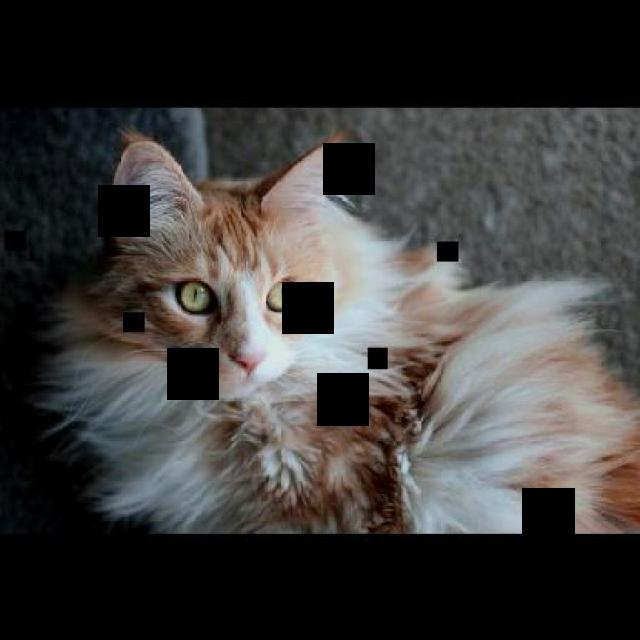unauthorized: (32, 126, 638, 534)
